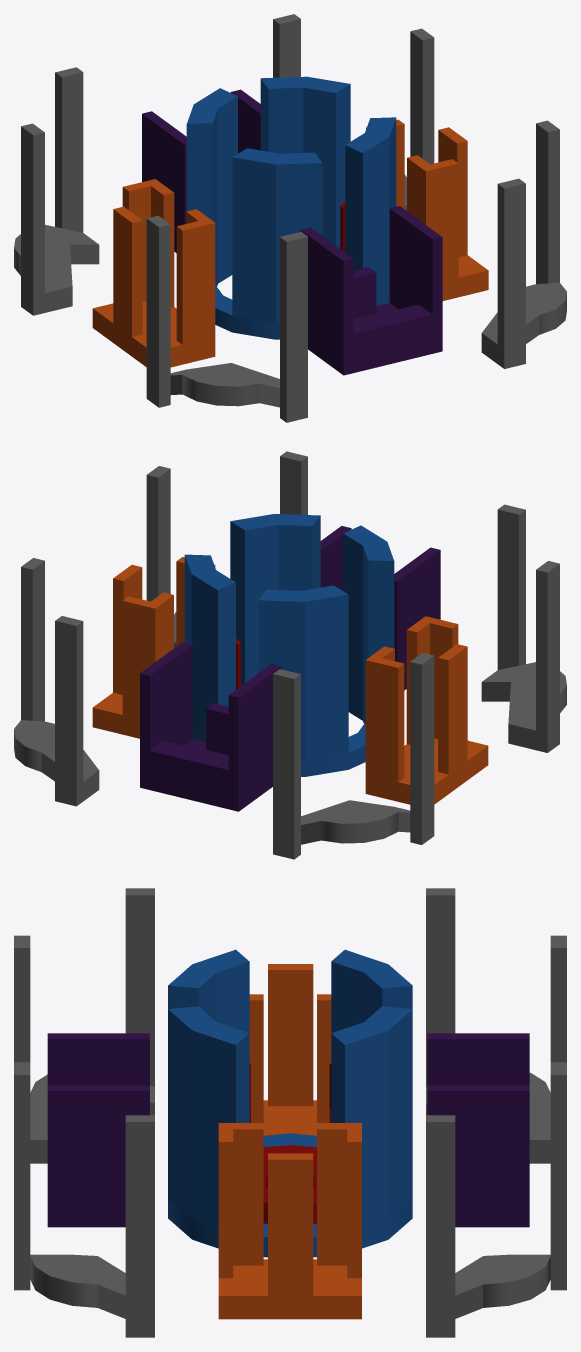
File: LD1_MovingArena.FBX
3 renders of one model, top to bottom at view 1: azimuth 30°, elevation 25°; view 2: azimuth 150°, elevation 25°; view 3: azimuth 270°, elevation 25°, orthographic. The views are drawn at different scales.
Parts seen in each view (by area): view 1: LD1, Box159, Box230, Box237, Box229, Box233, Box288, Box234, Box236, Box142, Box143, Box239 (+23 smaller); view 2: LD1, Box239, Box289, Box288, Box238, Box234, Box229, Box233, Box235, Box142, Box159, Box283 (+23 smaller); view 3: LD1, Box237, Box238, Box235, Box236, Box240, Box142, Box118, Box239, Box159, Box233, Box284 (+19 smaller).
Boxes of the visible parts, bbox=[...] form: LD1: bbox=[186, 76, 396, 322]; Box159: bbox=[300, 227, 353, 375]; Box230: bbox=[497, 178, 525, 368]; Box237: bbox=[389, 206, 442, 353]; Box229: bbox=[280, 232, 307, 422]; Box233: bbox=[146, 215, 170, 407]; Box288: bbox=[55, 67, 83, 232]; Box234: bbox=[21, 123, 44, 315]; Box236: bbox=[536, 120, 559, 284]; Box142: bbox=[113, 206, 142, 336]; Box143: bbox=[176, 221, 204, 344]; Box239: bbox=[142, 111, 186, 252]; LD1: bbox=[184, 514, 394, 759]; Box239: bbox=[228, 664, 281, 811]; Box289: bbox=[55, 616, 83, 806]; Box288: bbox=[273, 669, 300, 859]; Box238: bbox=[140, 642, 192, 789]; Box234: bbox=[410, 653, 434, 844]; Box229: bbox=[497, 504, 525, 669]; Box233: bbox=[536, 561, 559, 752]; Box235: bbox=[21, 558, 44, 721]; Box142: bbox=[438, 644, 467, 774]; Box159: bbox=[394, 547, 440, 690]; Box283: bbox=[376, 658, 404, 781]; LD1: bbox=[168, 949, 412, 1228]; Box237: bbox=[47, 1085, 149, 1227]; Box238: bbox=[427, 1085, 529, 1227]; Box235: bbox=[426, 1115, 455, 1337]; Box236: bbox=[125, 1115, 154, 1337]; Box240: bbox=[268, 1153, 313, 1295]; Box142: bbox=[268, 964, 313, 1106]; Box118: bbox=[218, 1259, 361, 1319]; Box239: bbox=[427, 1033, 529, 1085]; Box159: bbox=[47, 1033, 149, 1085]; Box233: bbox=[125, 888, 154, 1086]; Box284: bbox=[218, 1123, 263, 1265].
Bounding box in the file's own units: 11176 × 5011 × 11176.
